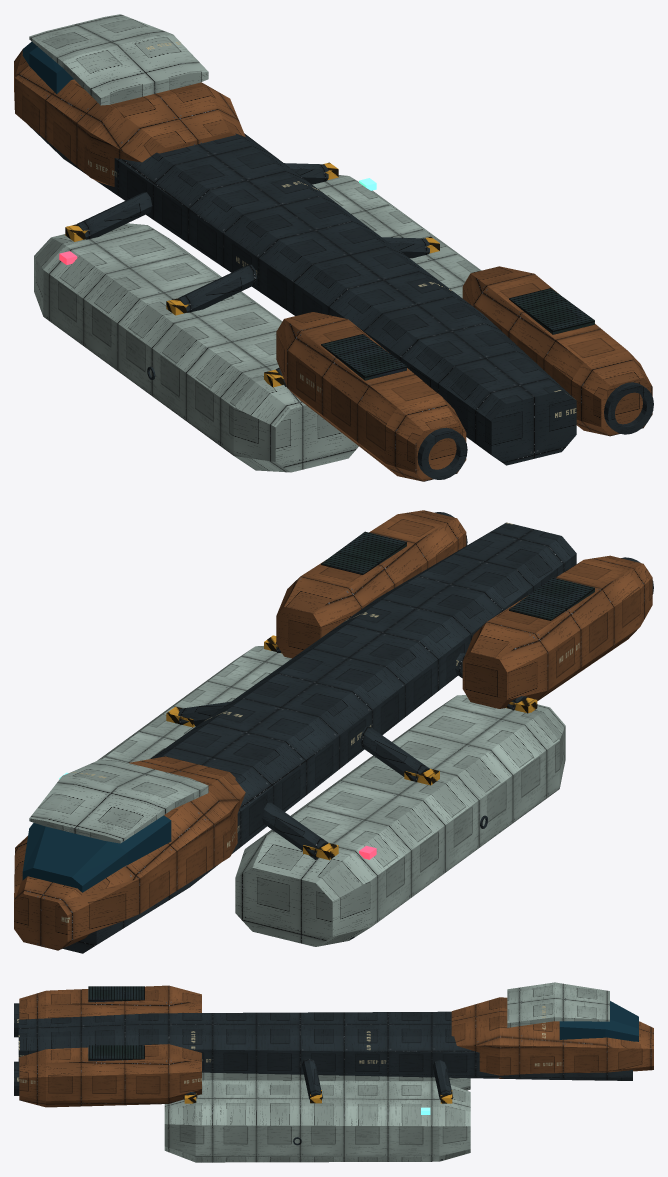
The model's file is ship_skua.glb.
3 renders of one model, top to bottom at view 1: azimuth 30°, elevation 25°; view 2: azimuth 150°, elevation 25°; view 3: azimuth 270°, elevation 25°, orthographic. The views are drawn at different scales.
Parts seen in each view (by area): view 1: Frame, Cream, Bronze, Thermal, Glass, Safety; view 2: Cream, Frame, Bronze, Glass, Thermal, Safety; view 3: Cream, Frame, Bronze, Glass, Thermal, Safety.
Part boxes in pixels (<box>): Frame: <box>28,125,653,479</box>; Cream: <box>29,14,481,472</box>; Bronze: <box>14,48,652,481</box>; Thermal: <box>321,288,594,380</box>; Glass: <box>22,41,73,93</box>; Safety: <box>65,162,439,387</box>; Cream: <box>29,646,565,946</box>; Frame: <box>63,512,653,953</box>; Bronze: <box>14,510,652,950</box>; Glass: <box>22,815,171,892</box>; Thermal: <box>321,531,594,620</box>; Safety: <box>166,635,537,860</box>; Cream: <box>164,982,609,1162</box>; Frame: <box>14,1003,632,1160</box>; Bronze: <box>19,985,653,1107</box>; Glass: <box>559,1001,638,1041</box>; Thermal: <box>88,986,144,1061</box>; Safety: <box>184,1090,452,1103</box>.
Bounding box in the file's own units: 8.86 × 4.81 × 22.81.
Materials: 9 (7 with a texture image).
